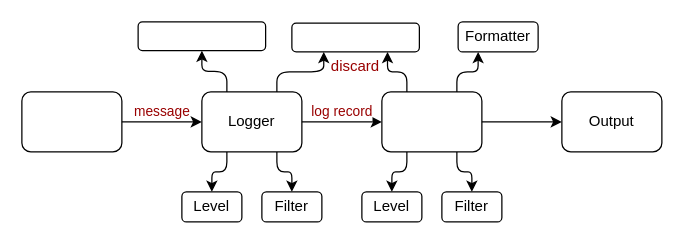
Some shapes in this 684 by 244 pixel diagram are drawn without their labels. The centre of each missing label's shape, as x and y in pixels:
"Client Code" belongs at pixel 71 121.
"Filtered Messages" belongs at pixel 355 37.
"Handler" belongs at pixel 431 121.
"Resource Bundle" belongs at pixel 201 36.
